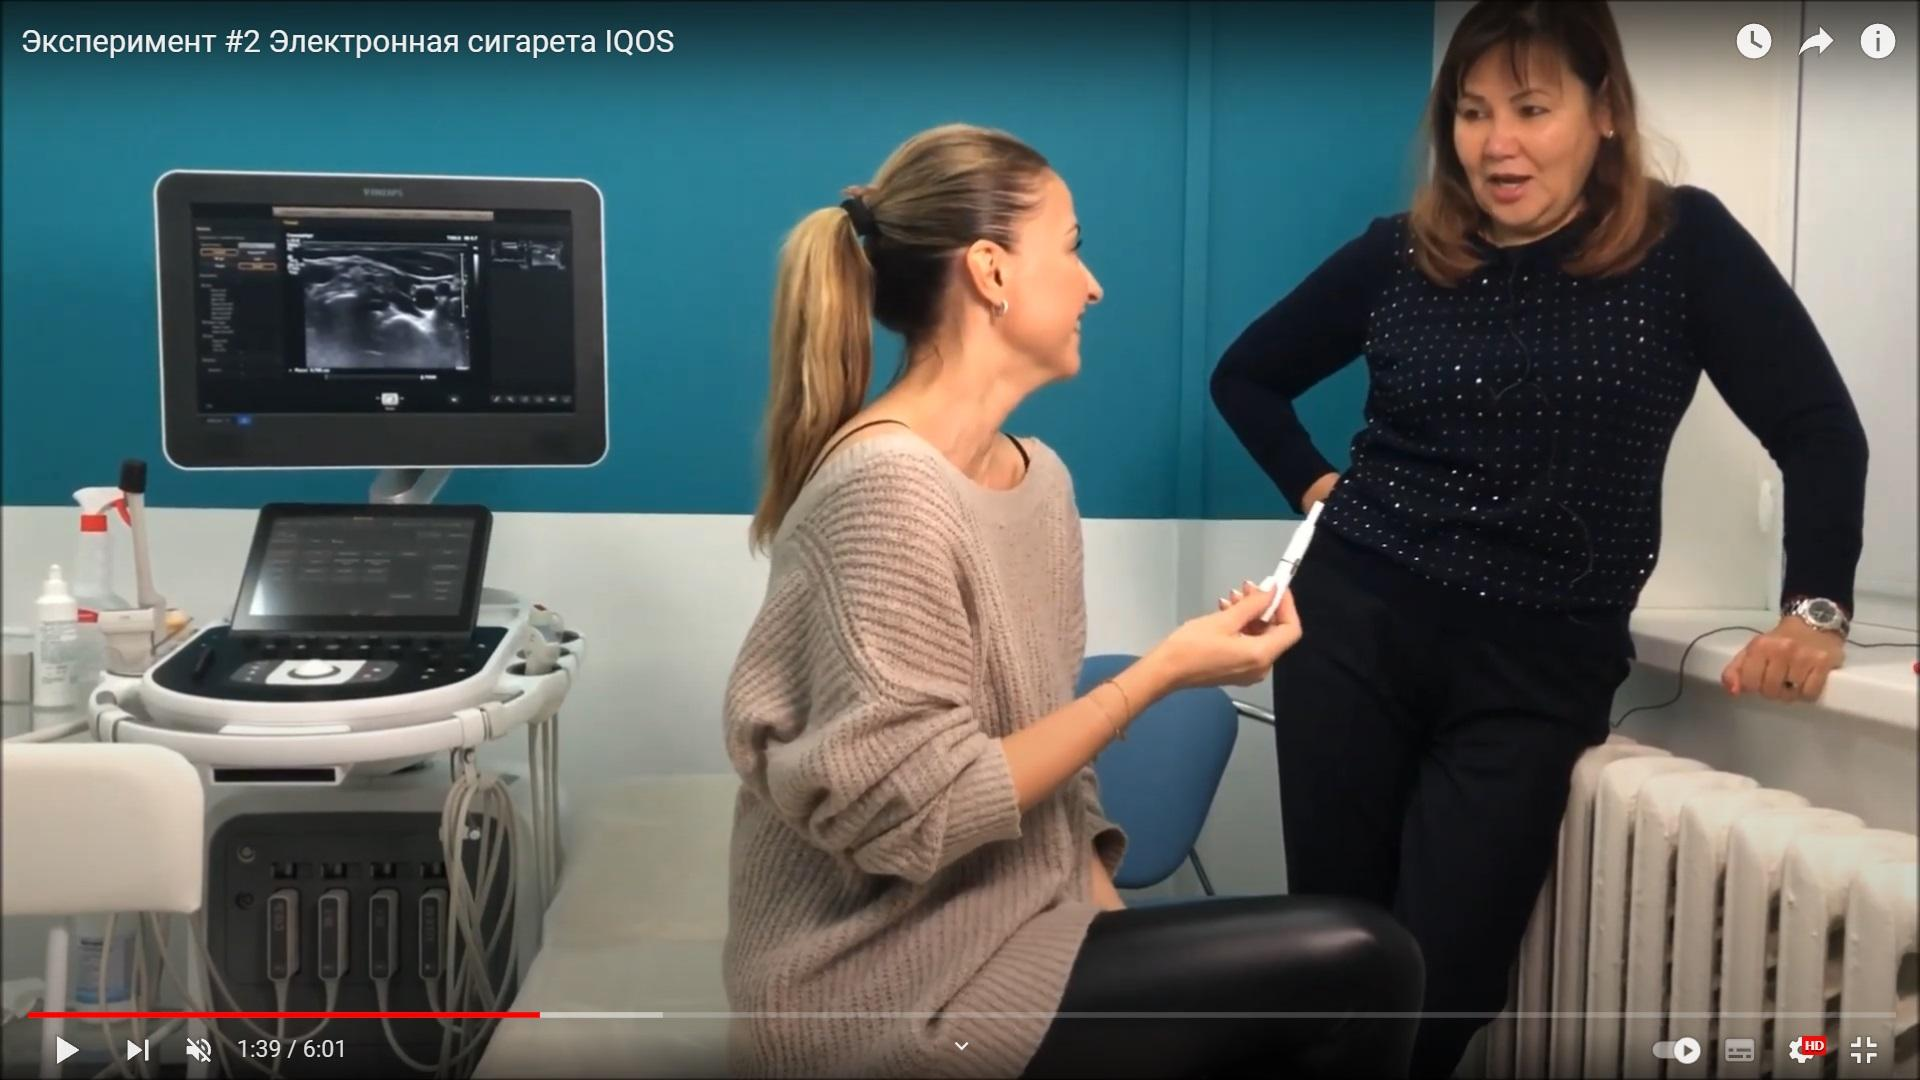iqos: (1261, 501, 1324, 624)
